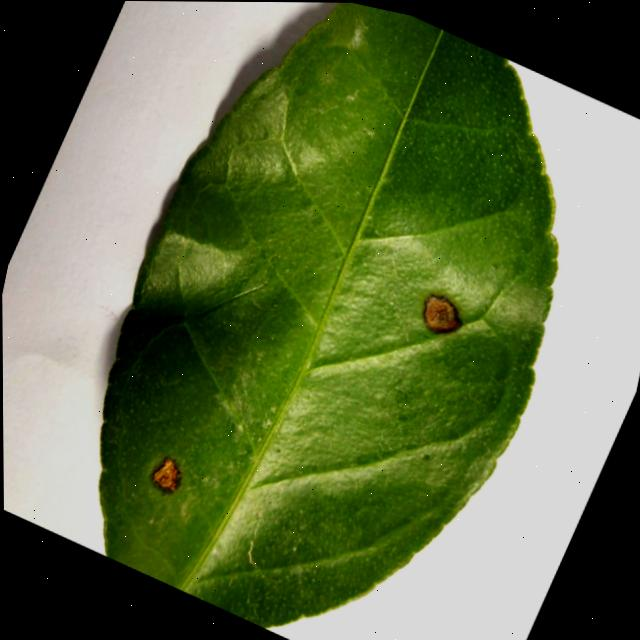antracnose: (98, 3, 555, 627), (422, 295, 458, 332), (152, 458, 177, 490)
